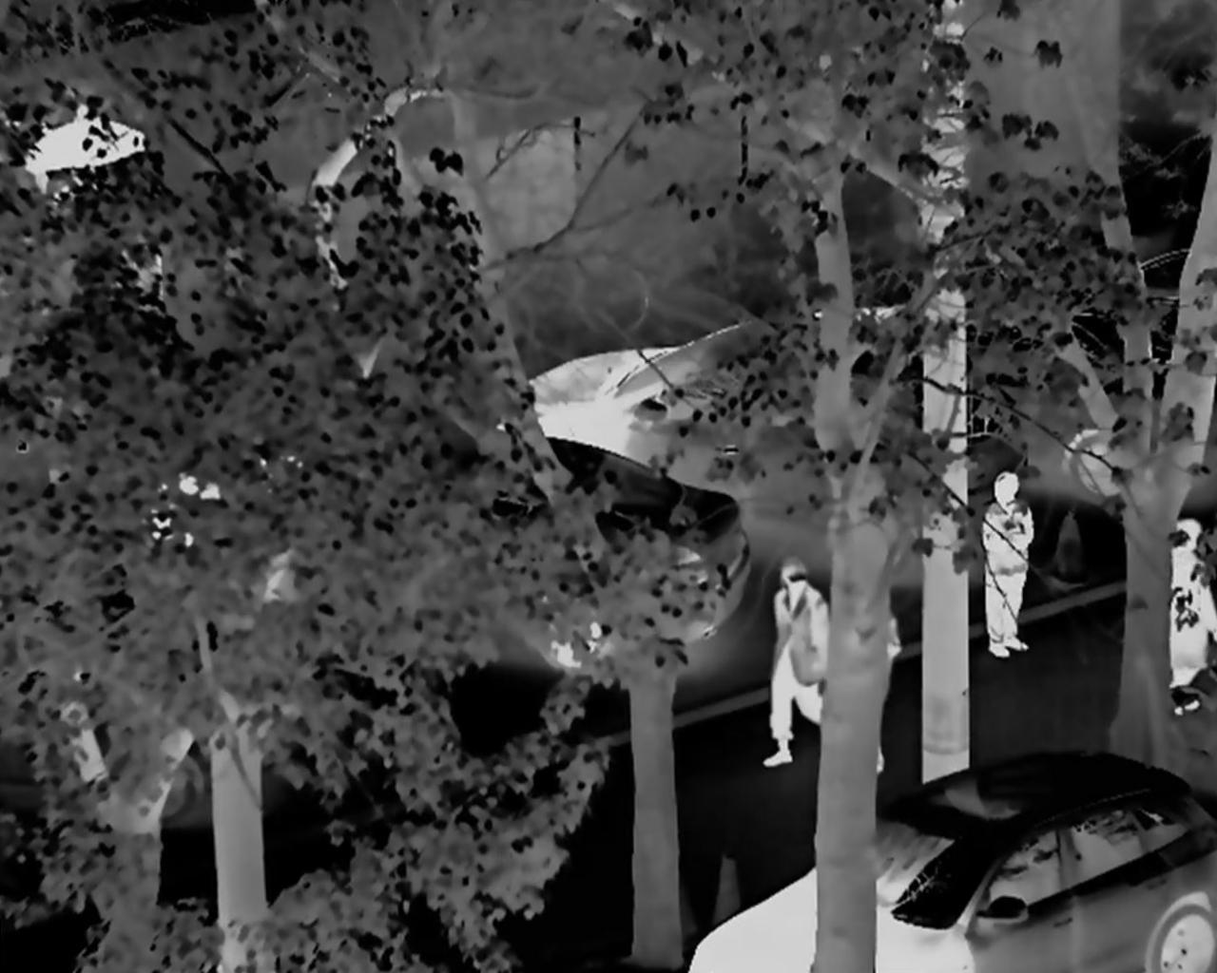person: (751, 561, 837, 765), (979, 469, 1039, 671), (1162, 515, 1217, 716)
